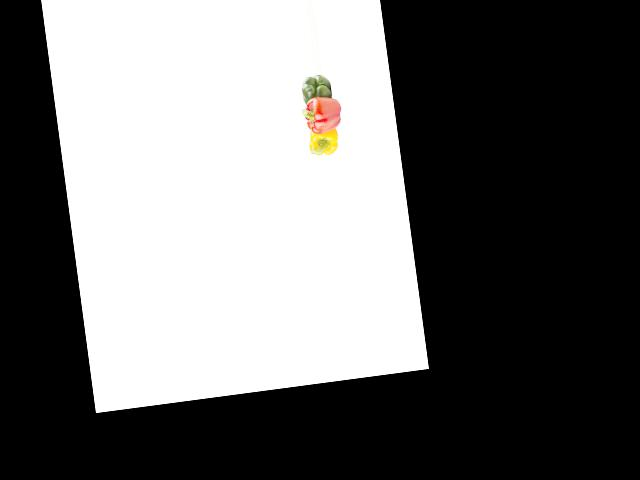bell_pepper: (304, 124, 346, 159)
